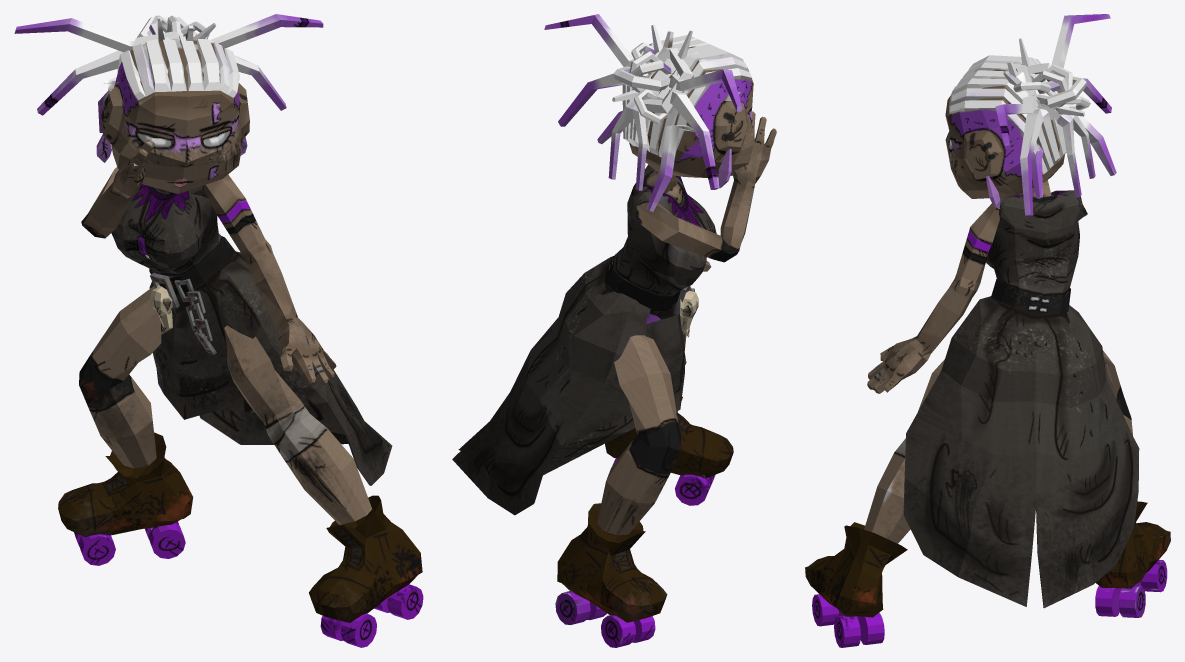
Rendered from bruja_000059.obj.
3 views of the same model, side by side, from view 1: azimuth 30°, elevation 25°; view 2: azimuth 150°, elevation 25°; view 3: azimuth 270°, elevation 25° (orthographic). The views are drawn at different scales.
Parts seen in each view (by area): view 1: Bruja_Plane.001; view 2: Bruja_Plane.001; view 3: Bruja_Plane.001.
Boxes of the visible parts, x1,y1,x2,y2 form: Bruja_Plane.001: [14, 14, 423, 647]; Bruja_Plane.001: [452, 14, 776, 647]; Bruja_Plane.001: [805, 14, 1170, 647].
Bounding box in the file's own units: 9.21 × 15.43 × 9.25.
